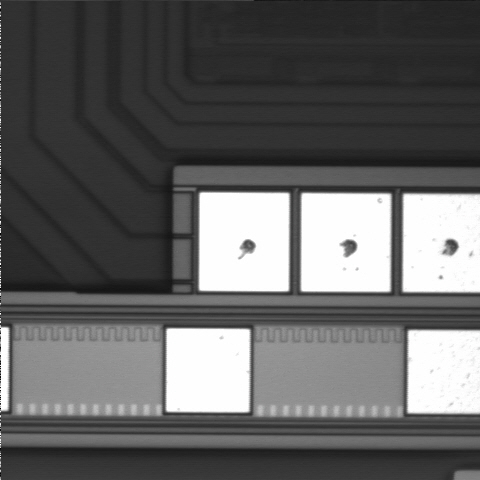pad: (301, 193, 391, 292), (199, 193, 289, 291), (166, 329, 250, 412)
